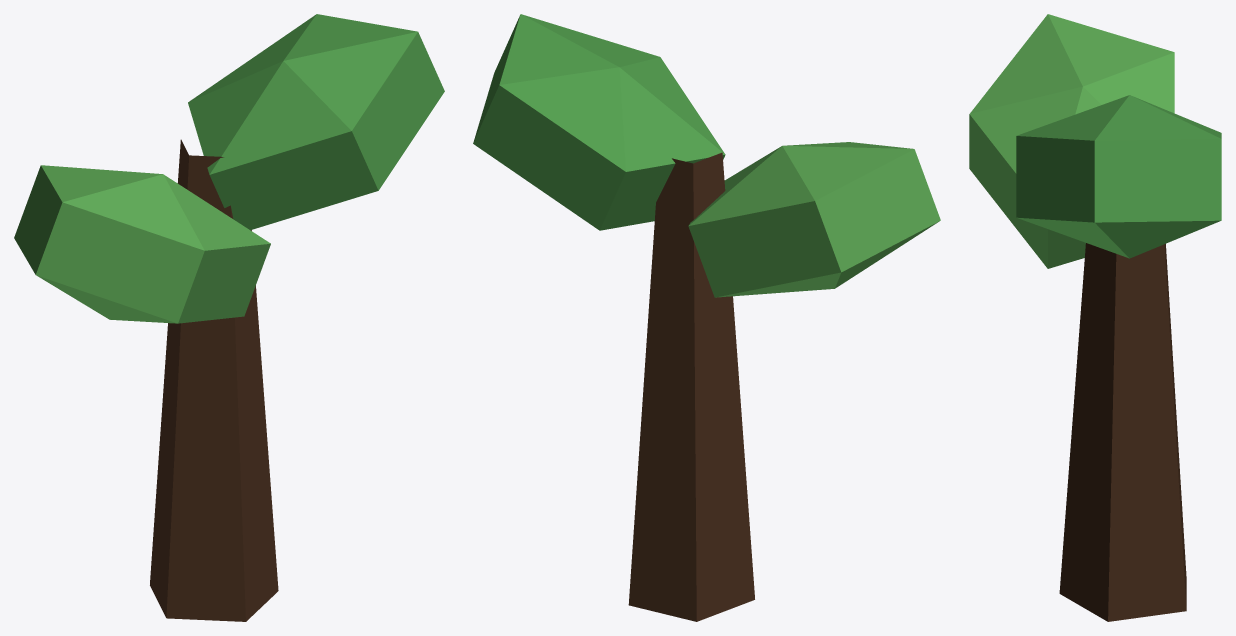
Rendered from crop_apple_s0.glb.
3 renders of one model, left to right at view 1: azimuth 30°, elevation 25°; view 2: azimuth 150°, elevation 25°; view 3: azimuth 270°, elevation 25°, orthographic. The views are drawn at different scales.
Visible parts, largest first — view 1: crop_apple_s0; view 2: crop_apple_s0; view 3: crop_apple_s0.
Boxes of the visible parts, left/top/right/bottom form: crop_apple_s0: left=14, top=14, right=444, bottom=621; crop_apple_s0: left=473, top=14, right=940, bottom=621; crop_apple_s0: left=969, top=14, right=1221, bottom=621.
Size of the model in its own units: 0.2198 by 0.2586 by 0.1077.
